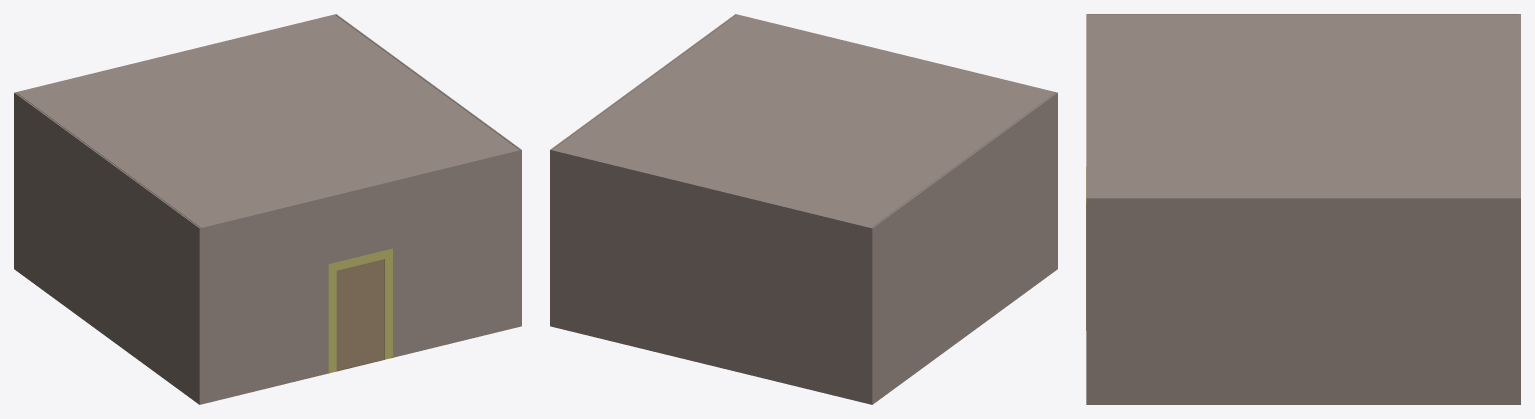
The model's file is Room26_Graveyard.fbx.
3 renders of one model, left to right at view 1: azimuth 30°, elevation 25°; view 2: azimuth 150°, elevation 25°; view 3: azimuth 270°, elevation 25°, orthographic. The views are drawn at different scales.
Parts seen in each view (by area): view 1: Roof, WallSlicedPosZ, WallPosX, DoorPosZ, DoorFramePosZ, WallNegX; view 2: Roof, WallNegZ, WallPosX, WallNegX; view 3: WallNegX, Roof, WallPosX.
Part boxes in pixels (box(x1,y1,x2,y2)): Roof: box(17, 15, 518, 227); WallSlicedPosZ: box(199, 149, 521, 404); WallPosX: box(14, 92, 201, 404); DoorPosZ: box(336, 259, 384, 370); DoorFramePosZ: box(328, 248, 392, 372); WallNegX: box(336, 14, 521, 326); Roof: box(553, 15, 1054, 227); WallNegZ: box(550, 149, 871, 404); WallPosX: box(870, 92, 1057, 404); WallNegX: box(550, 14, 735, 326); WallNegX: box(1086, 197, 1520, 404); Roof: box(1088, 15, 1518, 197); WallPosX: box(1086, 14, 1520, 14).
Size of the model in its own units: 100 by 52.5 by 100.
